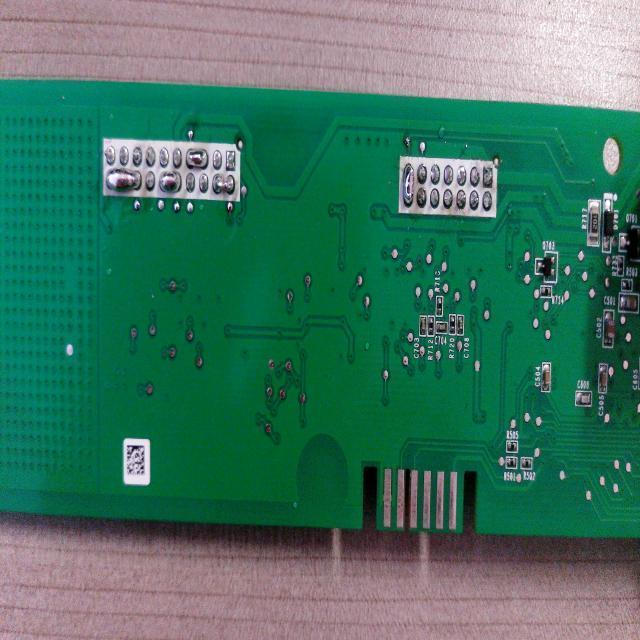Soldering shorted: (103, 170, 142, 196), (401, 163, 414, 208), (214, 173, 239, 196), (186, 150, 210, 173), (158, 173, 180, 194)
